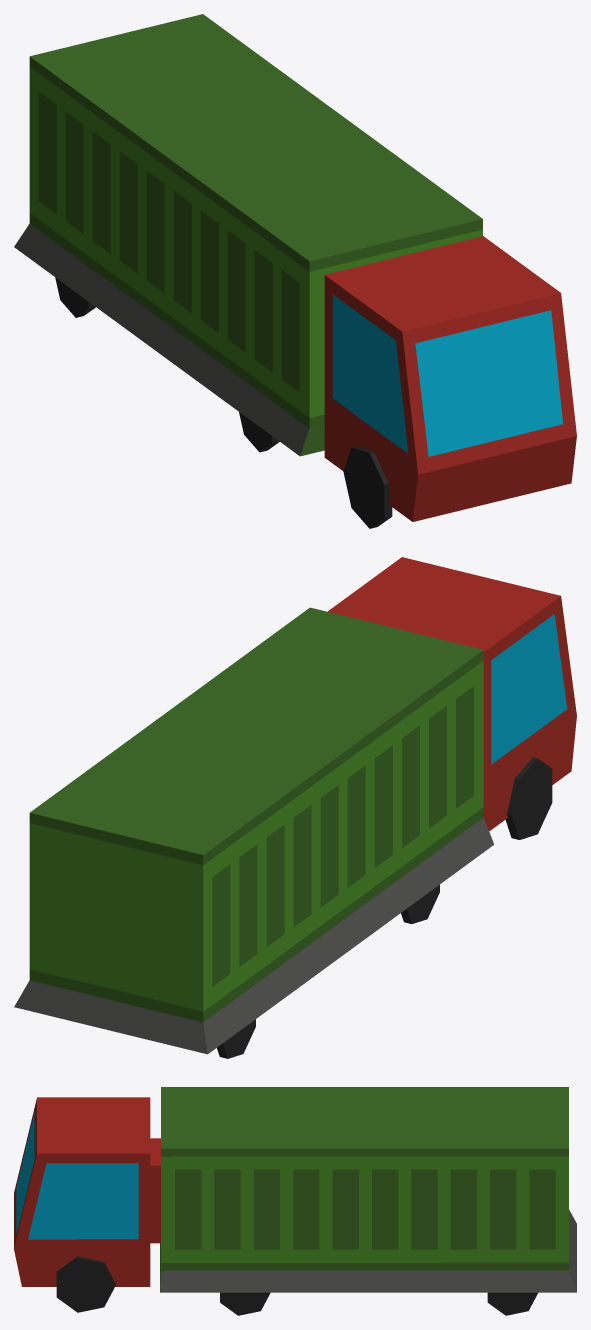
File: Truck.fbx
3 views of the same model, one above another, from view 1: azimuth 30°, elevation 25°; view 2: azimuth 150°, elevation 25°; view 3: azimuth 270°, elevation 25° (orthographic). The views are drawn at different scales.
Parts seen in each view (by area): view 1: Cube.003, Cube.004, Cube.005, Cube.002, Cube.001; view 2: Cube.003, Cube.004, Cube.005, Cube.001, Cube.002; view 3: Cube.003, Cube.004, Cube.005, Cube.001, Cube.002.
Boxes of the visible parts, x1,y1,x2,y2 form: Cube.003: (14, 14, 482, 456); Cube.004: (324, 236, 576, 521); Cube.005: (343, 446, 392, 528); Cube.002: (239, 412, 279, 452); Cube.001: (55, 277, 95, 317); Cube.003: (14, 607, 493, 1054); Cube.004: (328, 557, 576, 831); Cube.005: (505, 757, 552, 839); Cube.001: (217, 1019, 255, 1058); Cube.002: (401, 884, 439, 923); Cube.003: (160, 1087, 576, 1292); Cube.004: (14, 1097, 160, 1286); Cube.005: (56, 1256, 115, 1312); Cube.001: (487, 1292, 537, 1315); Cube.002: (220, 1292, 270, 1315).
Bounding box in the file's own units: 372 × 424 × 1286.
